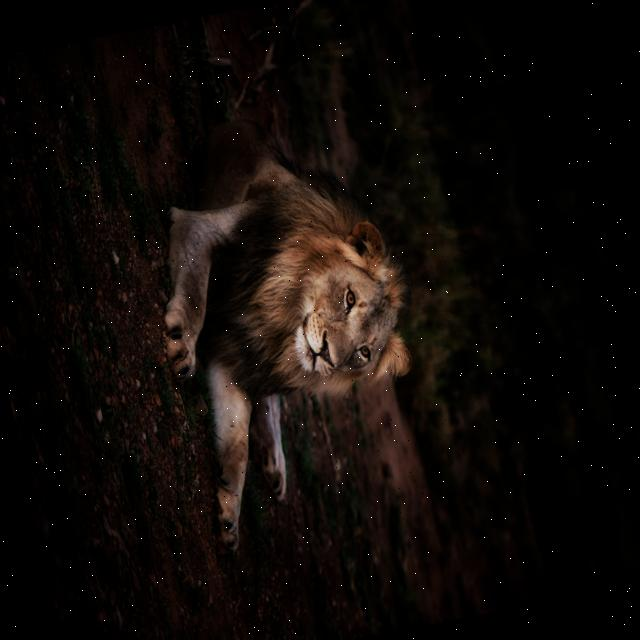Lion: (122, 92, 452, 560)
